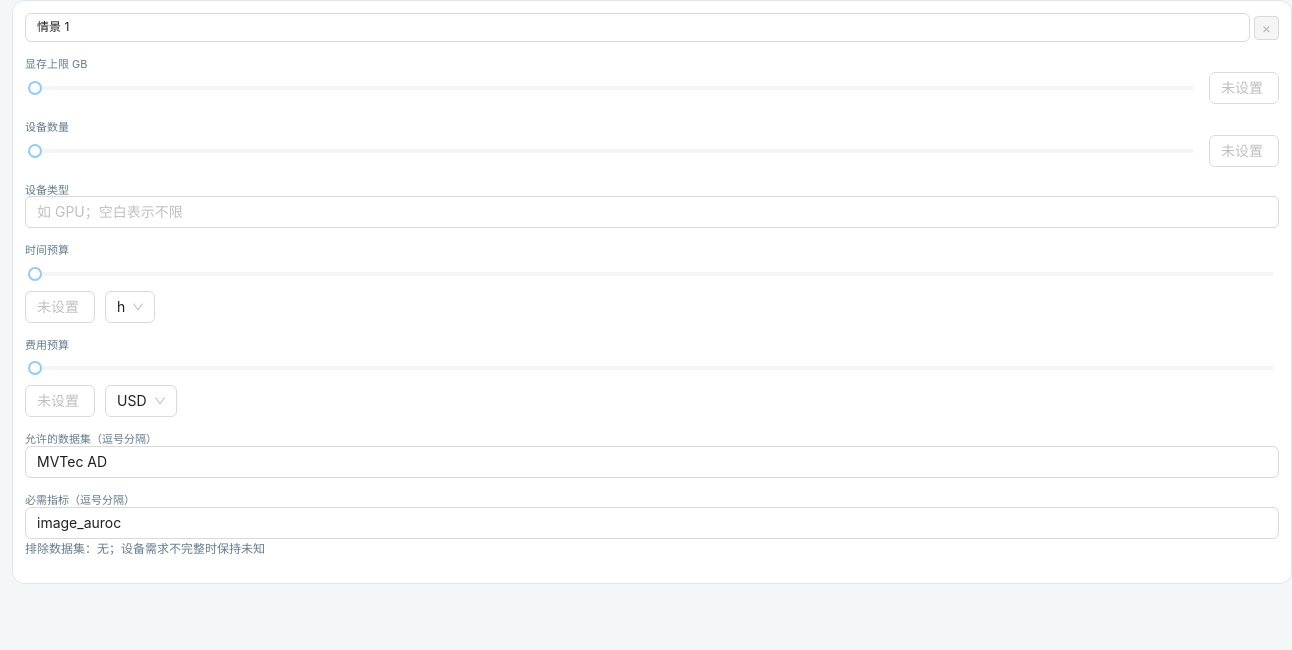
it: scenarios cancel old requests and keep only the latest response
Type "24" into the number field named "情景 1 显存数值".
click(1244, 88); type("24")  # box [1210,73,1278,103]
(page scrolled)
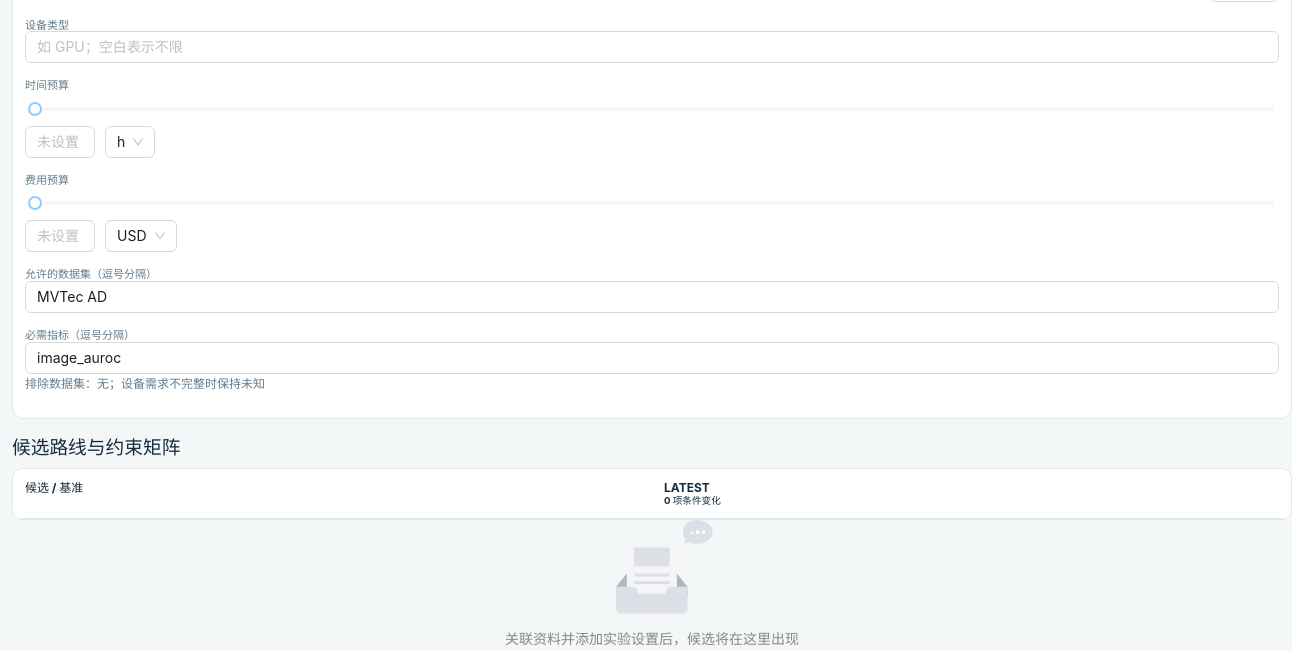
Now the column heading "LATEST" is shown, box [664,480,710,495]
